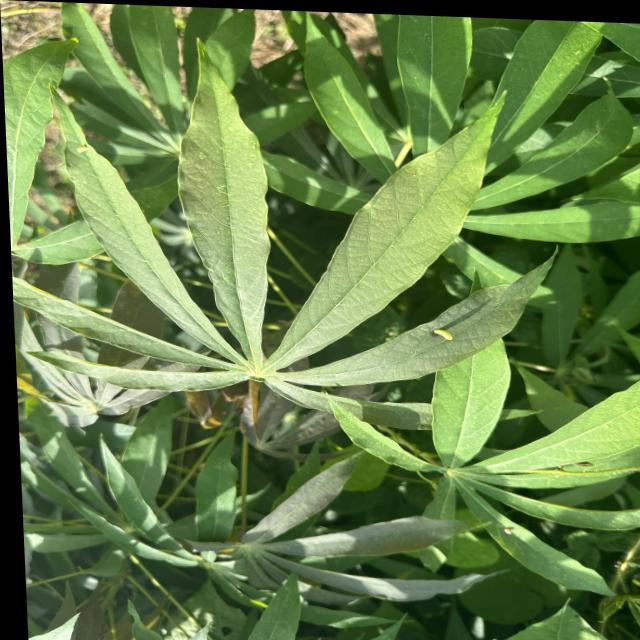Mosca: (390, 129, 421, 177), (427, 318, 457, 350), (497, 519, 525, 541), (243, 595, 273, 612)
